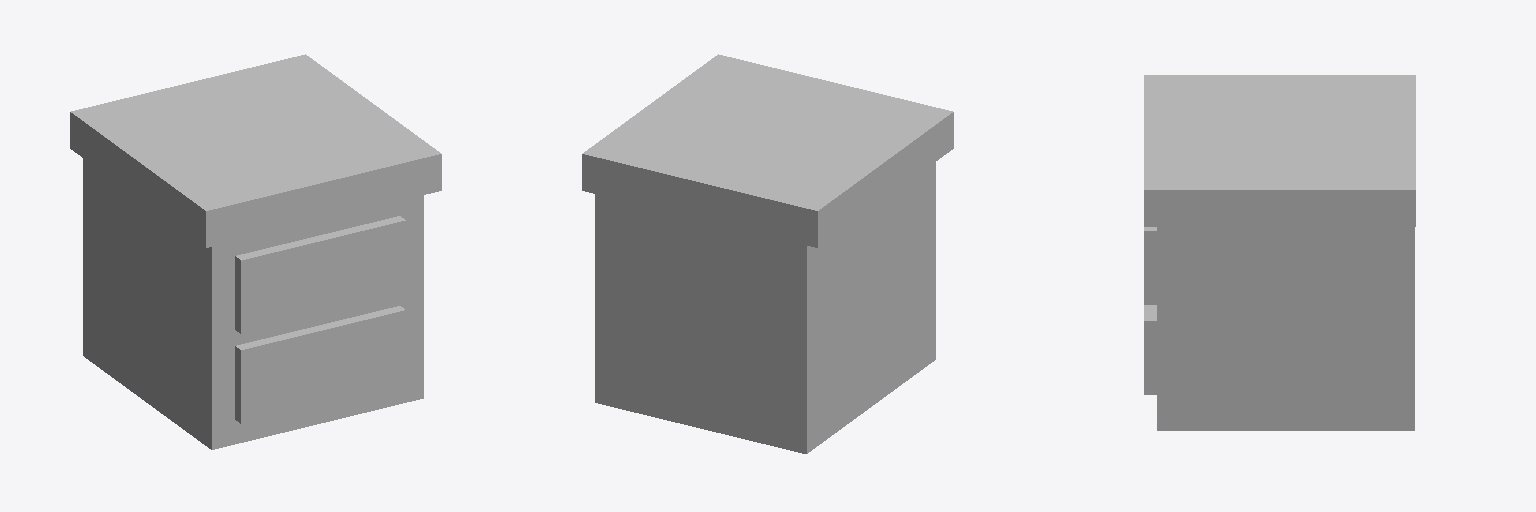
File: hcmwbedsidedrawers.obj
3 views of the same model, side by side, from view 1: azimuth 30°, elevation 25°; view 2: azimuth 150°, elevation 25°; view 3: azimuth 270°, elevation 25° (orthographic).
Visible parts, largest first — view 1: draws_top, draws_case, draws1, draws2; view 2: draws_case, draws_top; view 3: draws_case, draws_top, draws2, draws1.
Part boxes in pixels (x1,y1,x2,y2): draws_top: (70, 54, 441, 247); draws_case: (83, 158, 423, 449); draws1: (235, 216, 405, 333); draws2: (235, 306, 405, 423); draws_case: (595, 162, 935, 453); draws_top: (582, 54, 953, 247); draws_case: (1157, 227, 1414, 430); draws_top: (1144, 75, 1415, 226); draws2: (1144, 305, 1156, 394); draws1: (1144, 227, 1156, 304).
Bounding box in the file's own units: 1 × 1 × 1.